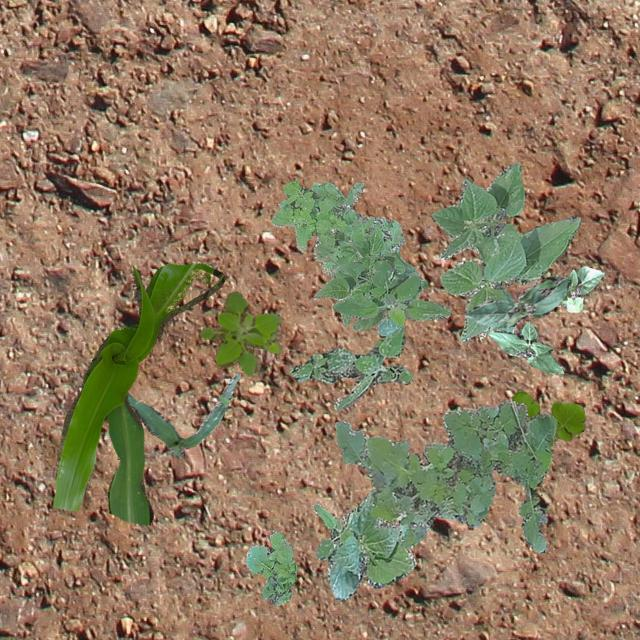crop: (50, 262, 224, 524), (430, 162, 580, 342), (312, 488, 416, 600), (312, 228, 420, 329), (126, 372, 240, 458), (464, 274, 570, 326), (486, 320, 562, 372), (556, 264, 604, 312)
weed: (334, 400, 556, 552), (270, 178, 426, 288), (288, 322, 412, 410), (332, 256, 449, 334), (200, 290, 282, 376), (244, 530, 296, 604), (510, 390, 584, 440)
